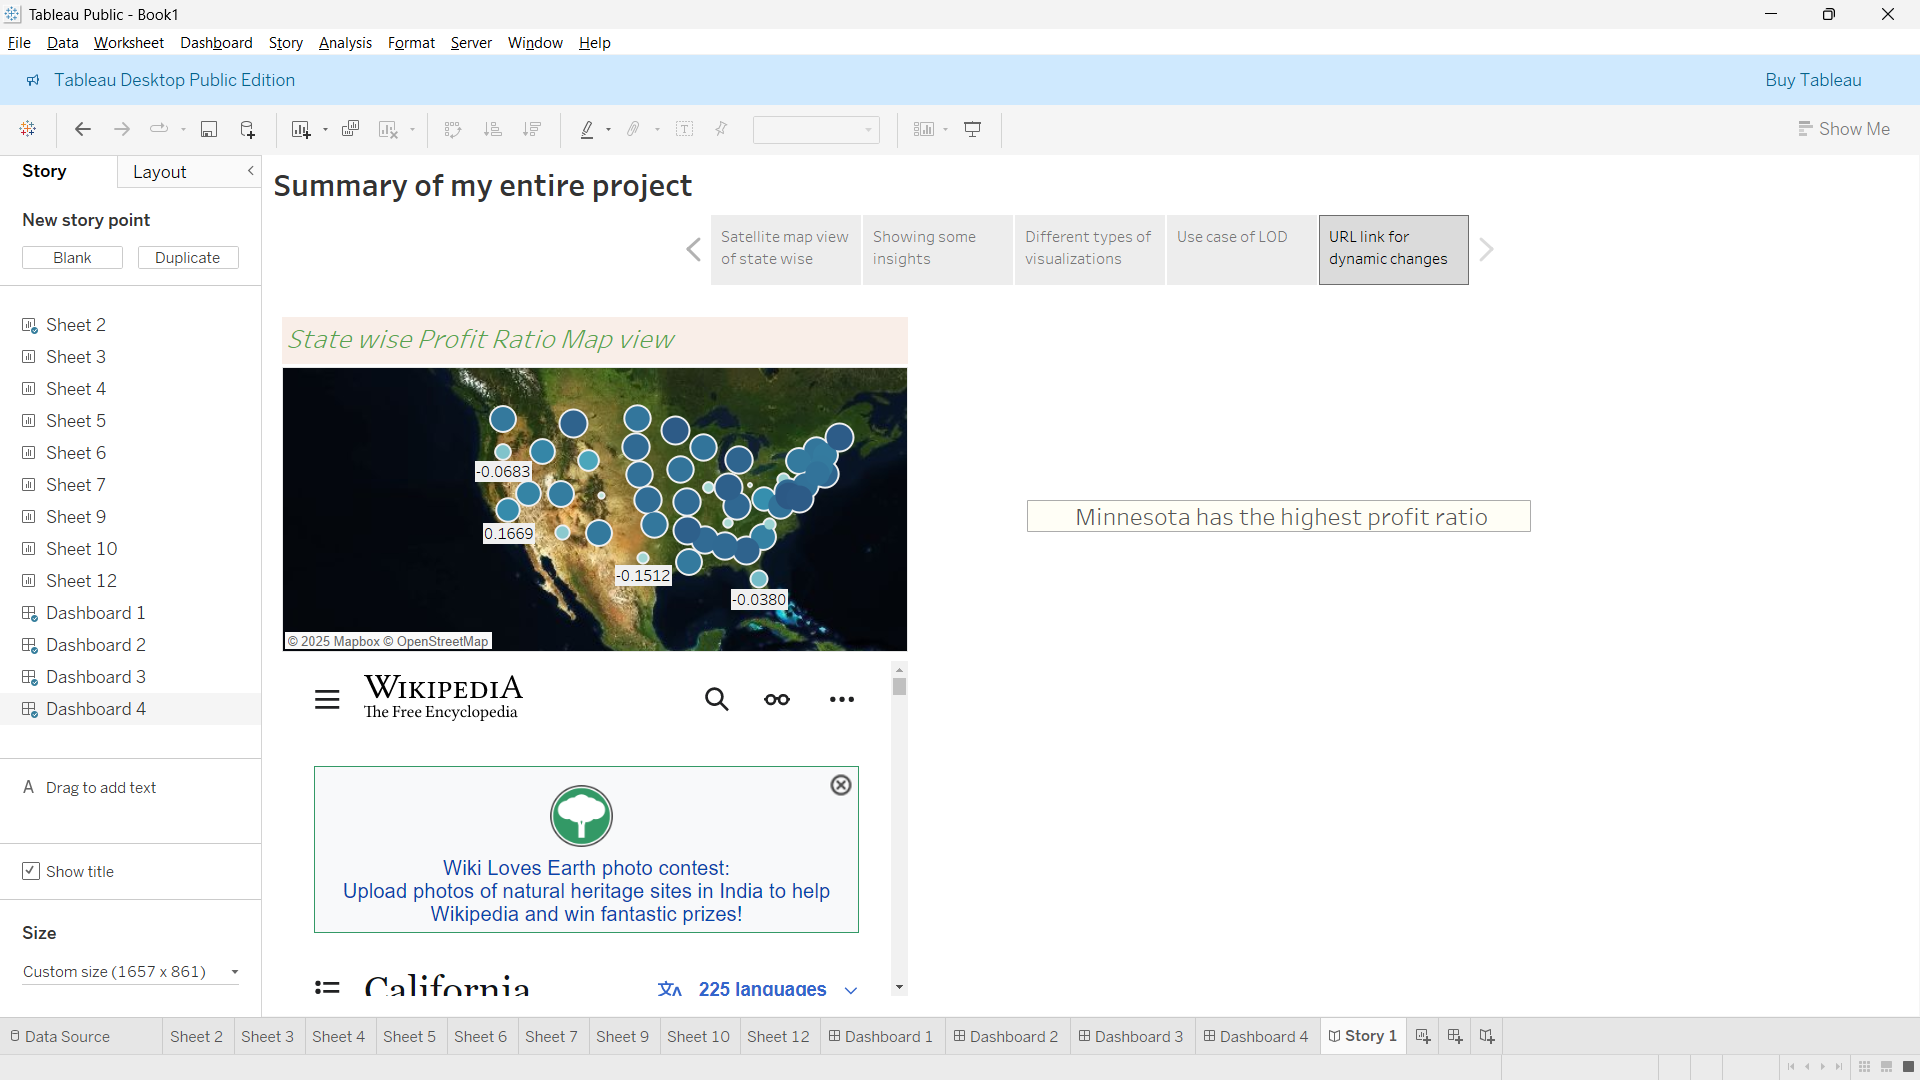

The dashboard page shown, as its layout file describes it:
{"tool":"tableau","page":{"name":"Dashboard 4","canvas":[650,860],"ordinal":3},"visuals":[{"type":"worksheet","title":"Sheet 2","mark":"Automatic","box":[8,8,634,422]},{"type":"web page","param":"https://en.wikipedia.org/wiki/California","box":[8,430,634,422]}]}

Visuals, with their boxes on the page's 650x860 design canvas (x1, y1, x2, y2). These are canvas units, not pixel positions in the 1920x1080 screenshot, which may show the page scaled, cropped or inside an application window:
"Sheet 2" worksheet: <box>8,8,642,430</box>
web page: <box>8,430,642,852</box>
